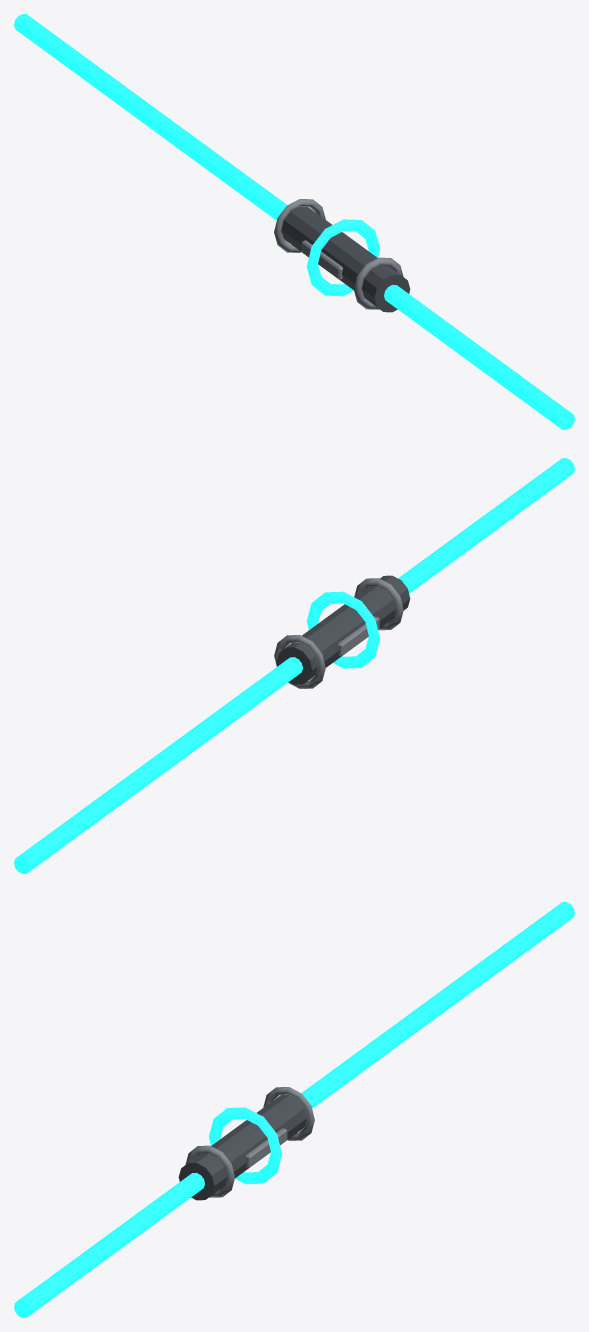
File: WPN_Lightsaber_Complete_TP_v01.glb
The picture shows the model from 3 angles, top to bottom: view 1: azimuth 30°, elevation 25°; view 2: azimuth 150°, elevation 25°; view 3: azimuth 330°, elevation 25°; orthographic projection.
Parts seen in each view (by area): view 1: MESH_Blade, MESH_Handle; view 2: MESH_Blade, MESH_Handle; view 3: MESH_Blade, MESH_Handle.
Part boxes in pixels (left/top/right/bottom): MESH_Blade: left=14, top=14, right=574, bottom=429; MESH_Handle: left=274, top=199, right=410, bottom=312; MESH_Blade: left=14, top=458, right=574, bottom=873; MESH_Handle: left=274, top=575, right=410, bottom=688; MESH_Blade: left=14, top=902, right=574, bottom=1317; MESH_Handle: left=178, top=1087, right=314, bottom=1200.
Size of the model in its own units: 0.156 by 0.156 by 2.
